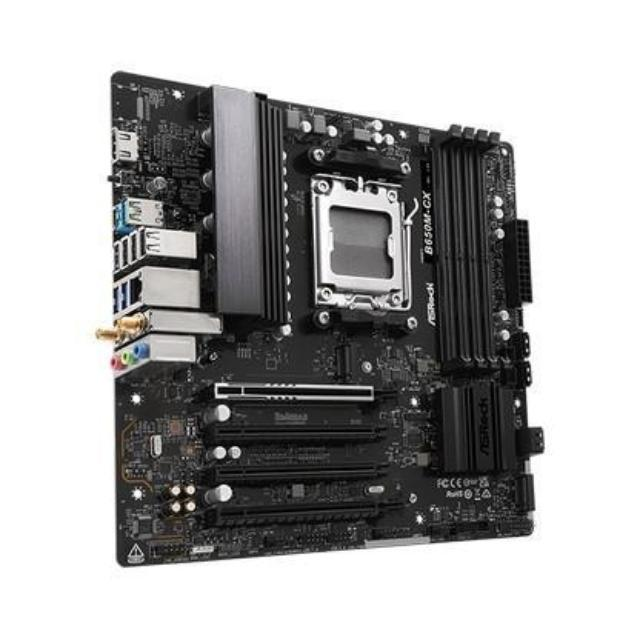Mainboard: (98, 62, 533, 570)
